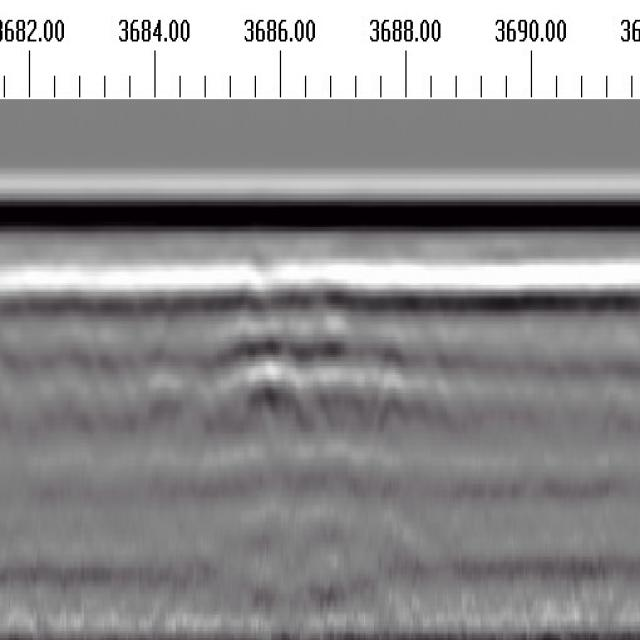loose: (208, 320, 433, 443)
